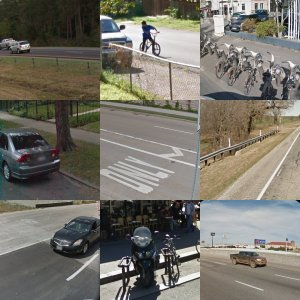公車: (220, 261, 300, 294)
汽車: (73, 236, 100, 264)
腳踏車: (234, 7, 278, 76), (136, 136, 183, 191), (25, 133, 56, 195)
